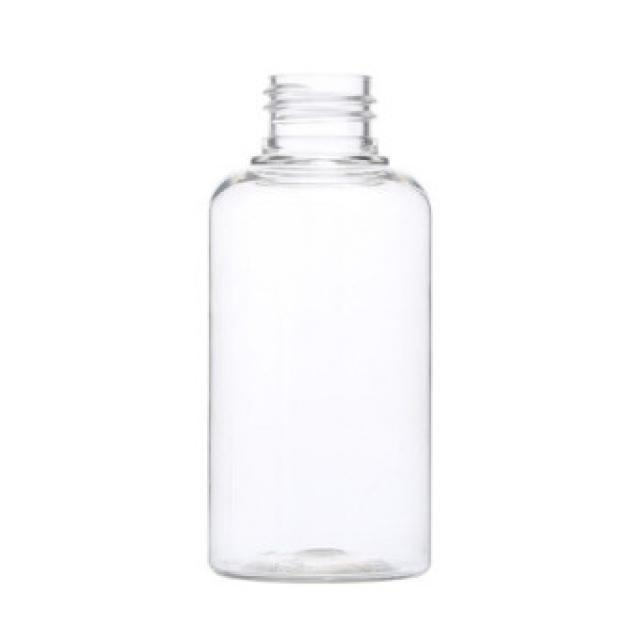plastic bottle: (205, 68, 429, 580)
